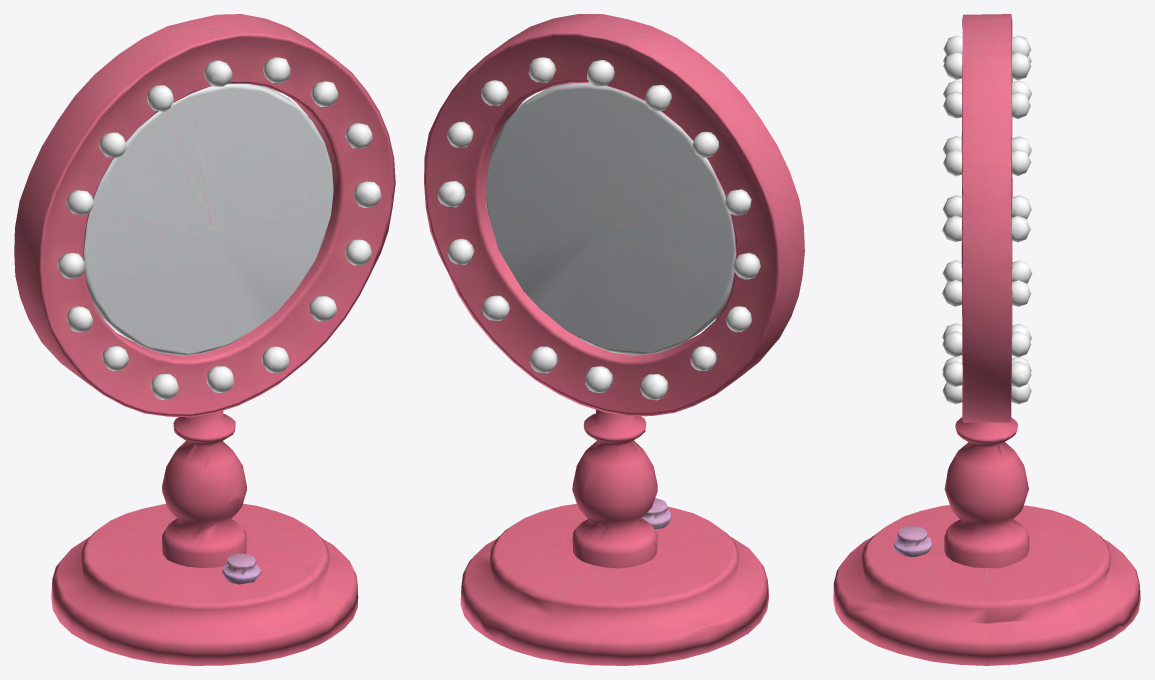
File: salon-mirror.glb
3 views of the same model, side by side, from view 1: azimuth 30°, elevation 25°; view 2: azimuth 150°, elevation 25°; view 3: azimuth 270°, elevation 25° (orthographic).
Parts seen in each view (by area): view 1: geometry_0; view 2: geometry_0; view 3: geometry_0.
Boxes of the visible parts, x1,y1,x2,y2 form: geometry_0: [14, 14, 395, 665]; geometry_0: [424, 14, 804, 665]; geometry_0: [833, 14, 1140, 665].
Bounding box in the file's own units: 0.6539 × 1 × 0.4908.
Materials: 1 (1 with a texture image).
